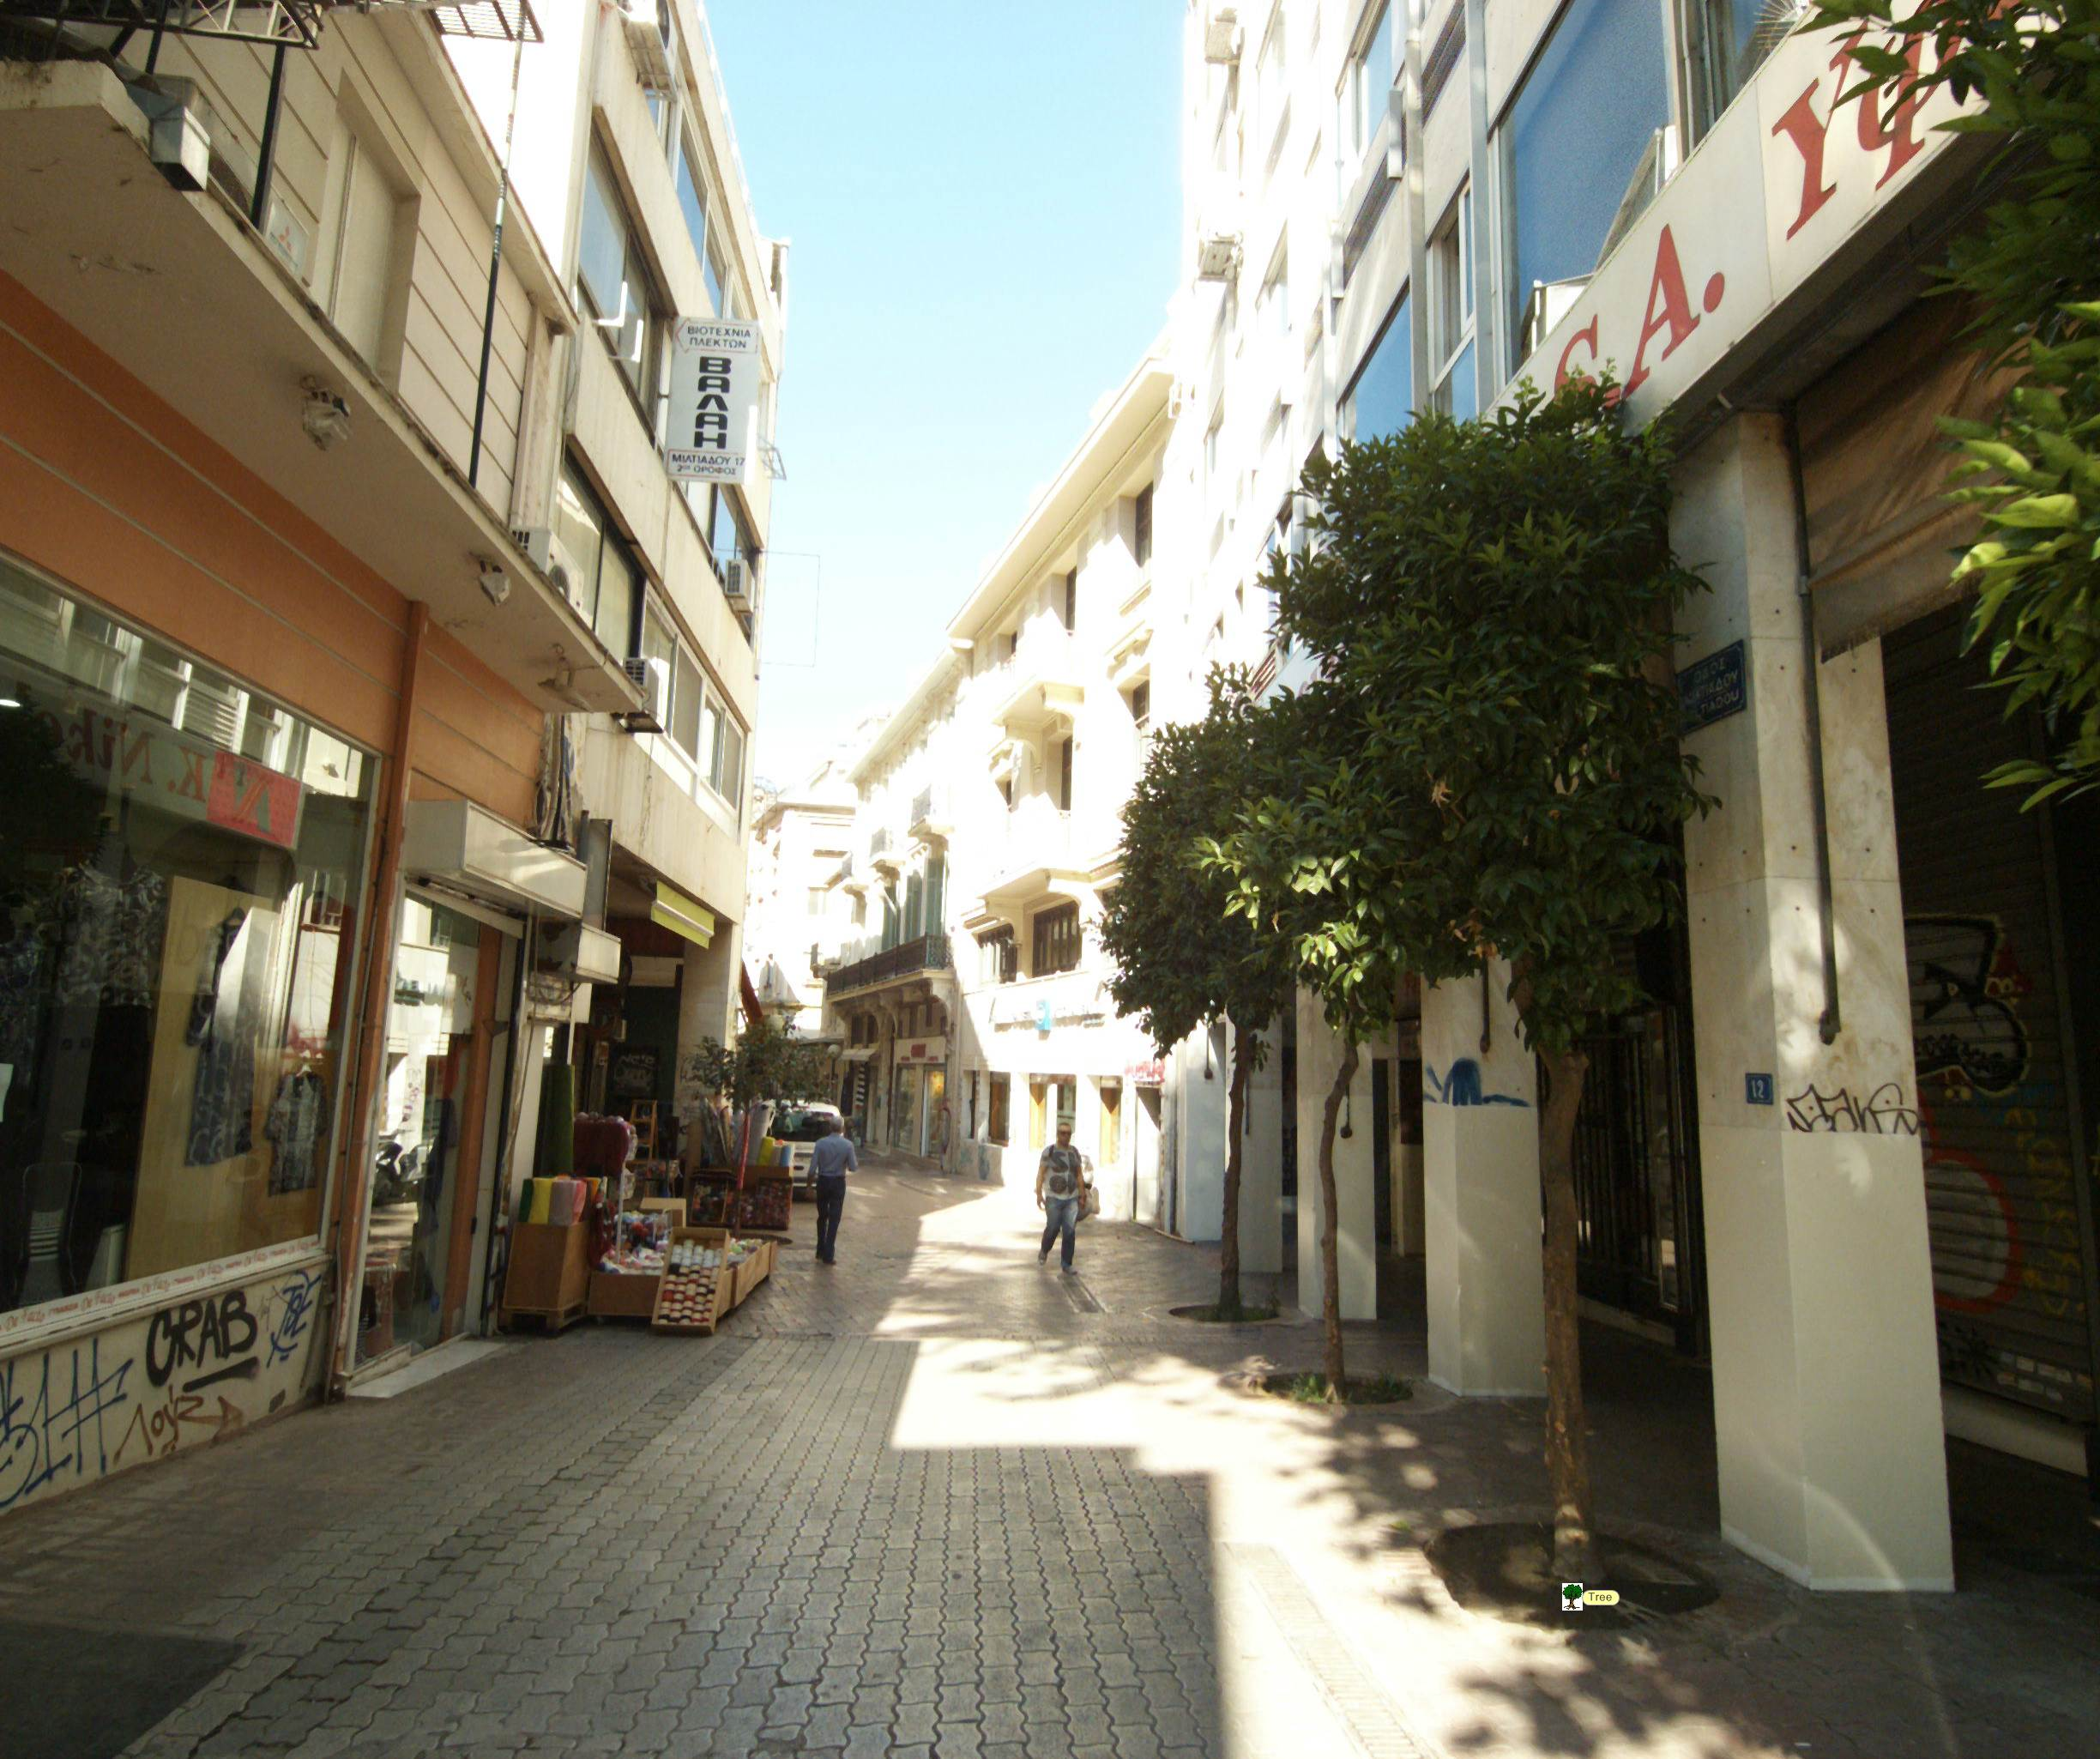tree: (1029, 314, 1812, 1696)
